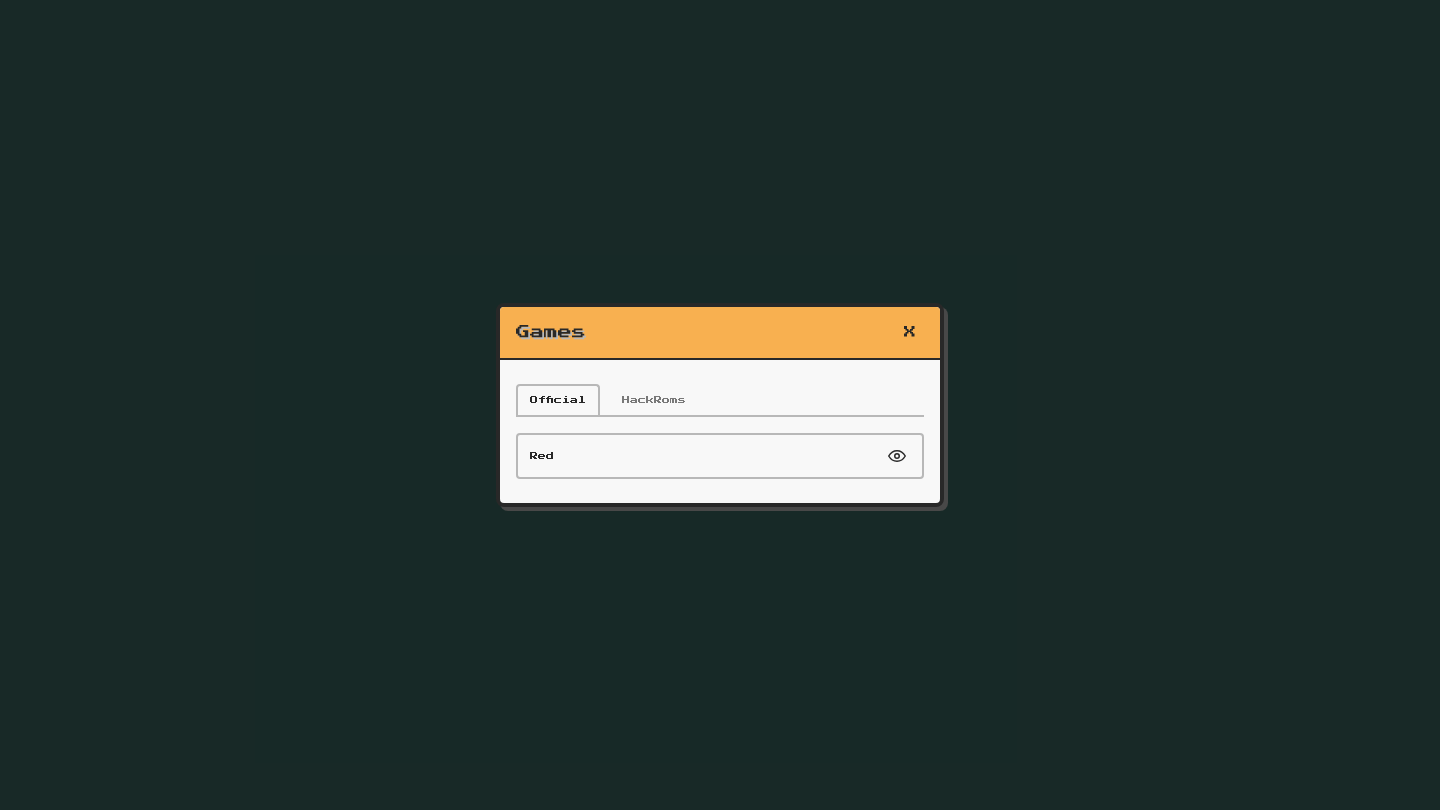
Test: GamesModal › mostra estado vazio quando não há hackroms
Expected: the text "Red" is shown, [530, 450, 554, 462]
Click the tab "HackRoms" at (654, 400), box [608, 384, 700, 415]
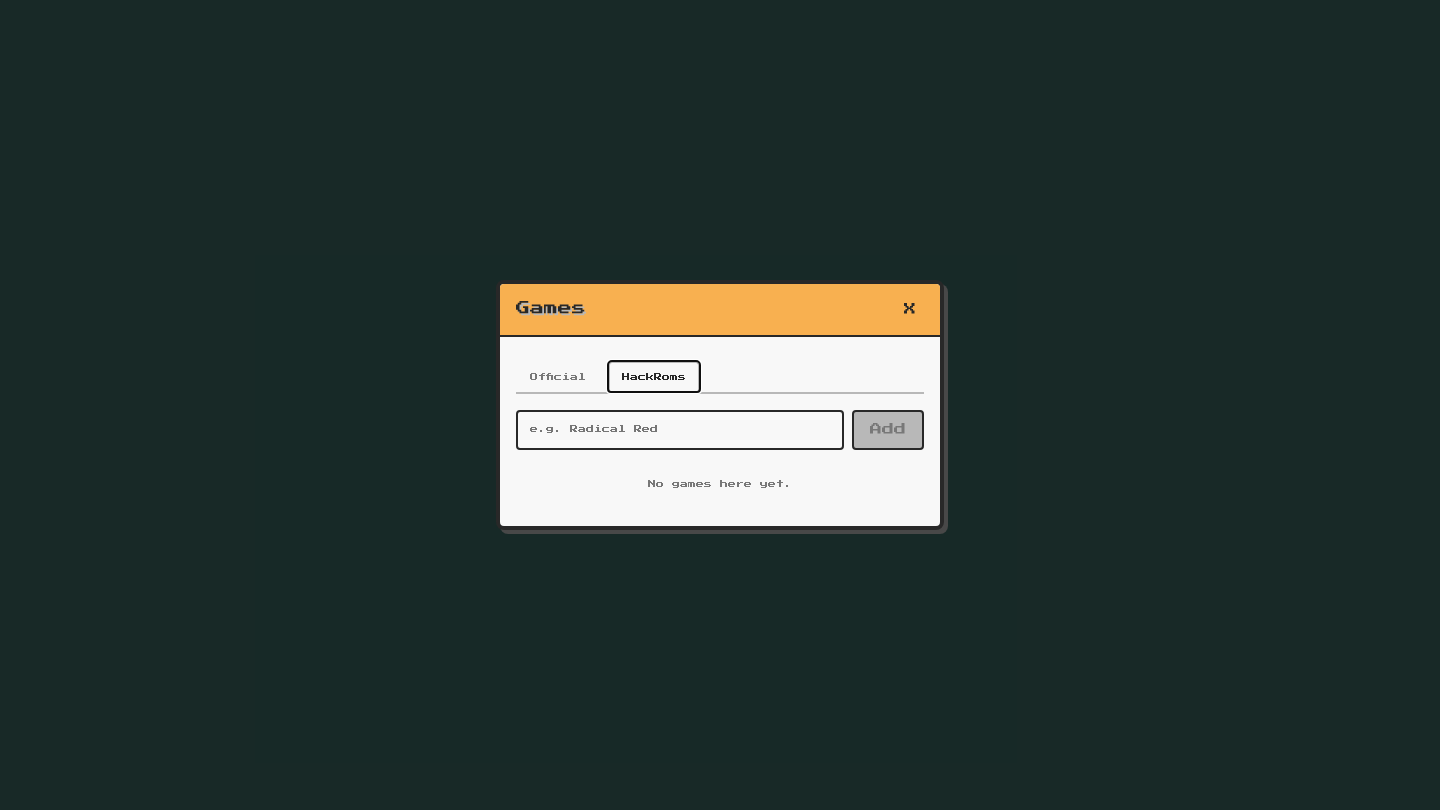
Expected: the text "No games here yet." is shown, [648, 480, 792, 488]
